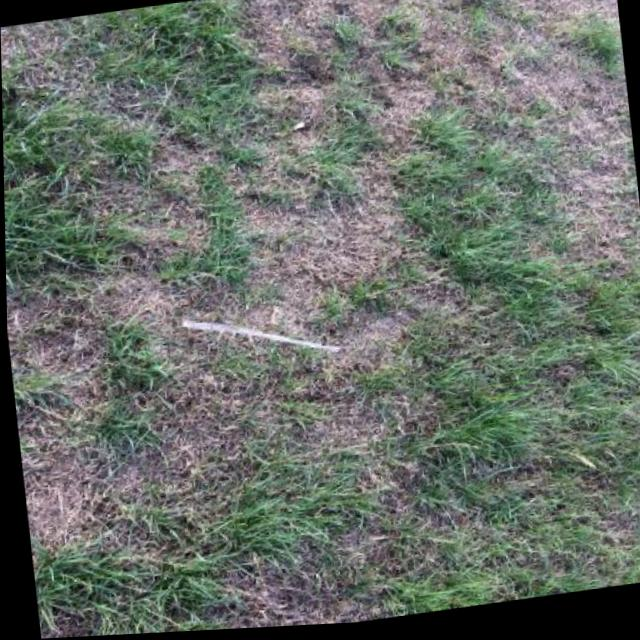plastic: (180, 300, 343, 374)
